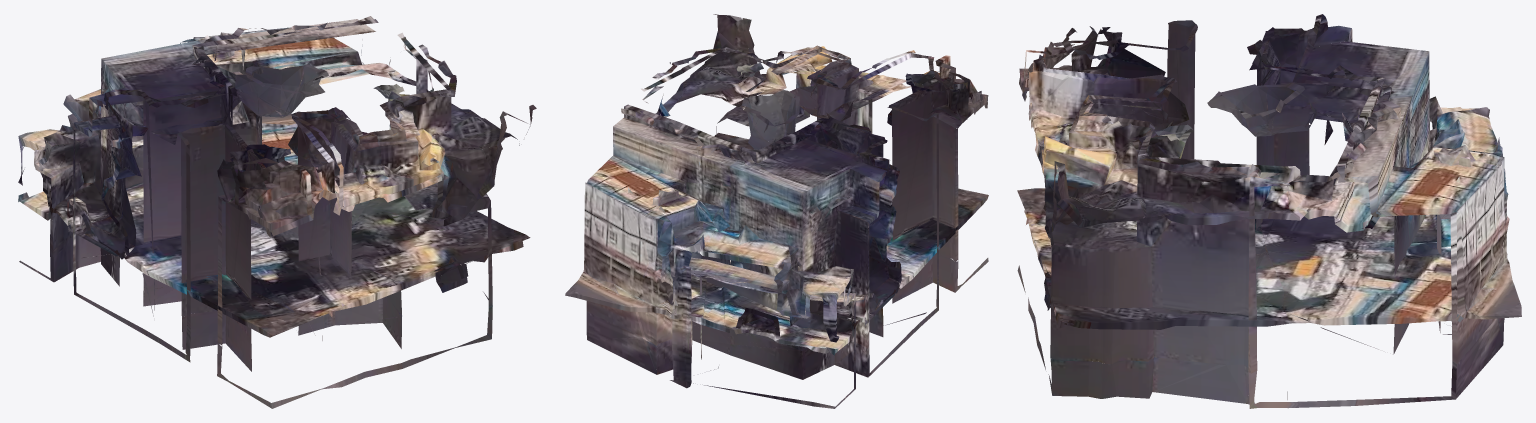
3 renders of one model, left to right at view 1: azimuth 30°, elevation 25°; view 2: azimuth 150°, elevation 25°; view 3: azimuth 270°, elevation 25°, orthographic. The views are drawn at different scales.
Visible parts, largest first — view 1: Mesh_0; view 2: Mesh_0; view 3: Mesh_0.
Part boxes in pixels (x1,y1,x2,y2): Mesh_0: [18, 16, 536, 408]; Mesh_0: [565, 14, 988, 408]; Mesh_0: [1017, 14, 1521, 408].
Bounding box in the file's own units: 34.26 × 22.76 × 41.46.
Materials: 3 (3 with a texture image).
